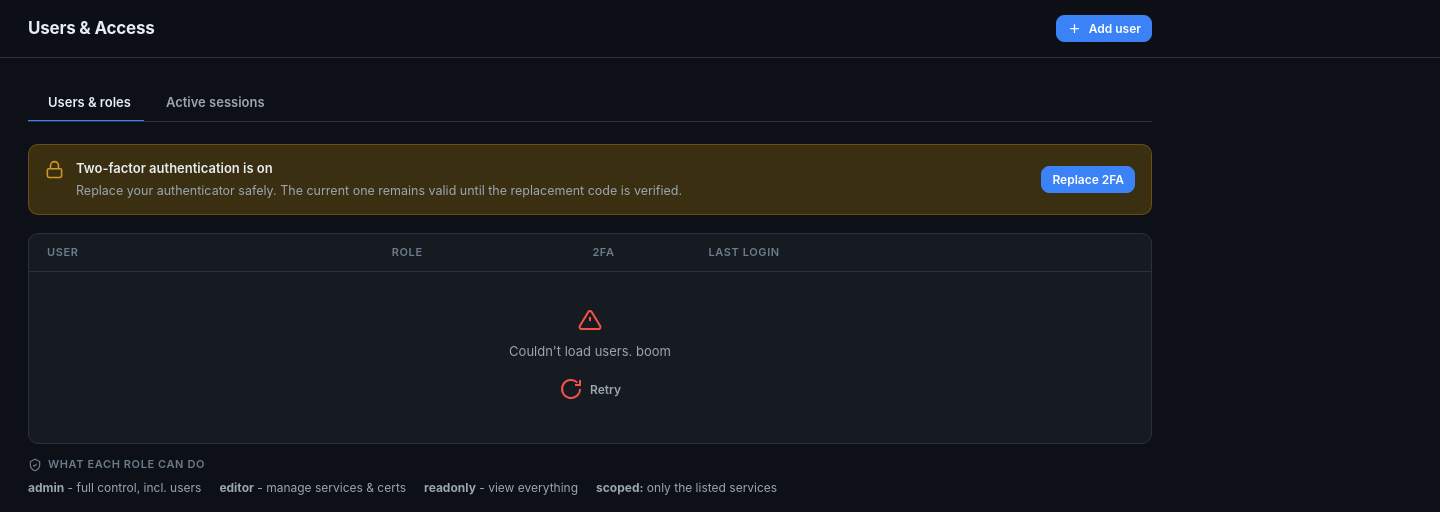
Test: UsersAccess — list state › surfaces an error state with a Retry that refetches the users list
The width and height of the screenshot is (1440, 512).
Expected: the message shows "Couldn't load users", top-left (509, 343), bottom-right (632, 359)
Expected: the message shows "boom", top-left (632, 343), bottom-right (671, 359)
Click the button "Retry".
click(590, 389)  # box top-left (548, 371), bottom-right (632, 407)
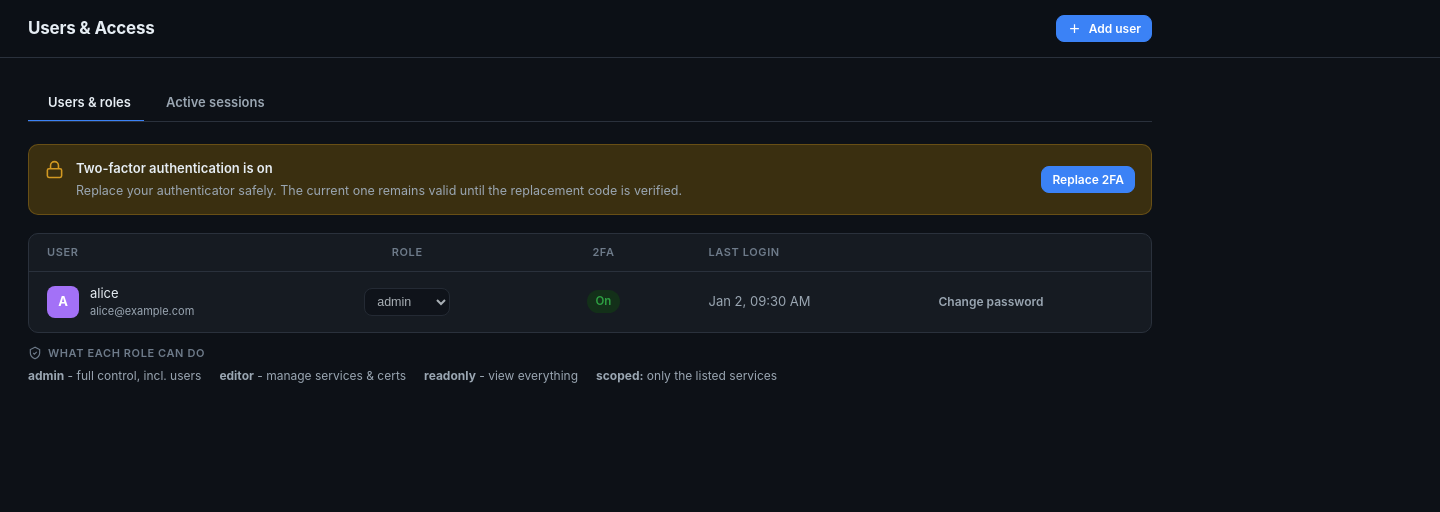
Now the text "alice@example.com" is shown, box top-left (90, 303), bottom-right (194, 320)
